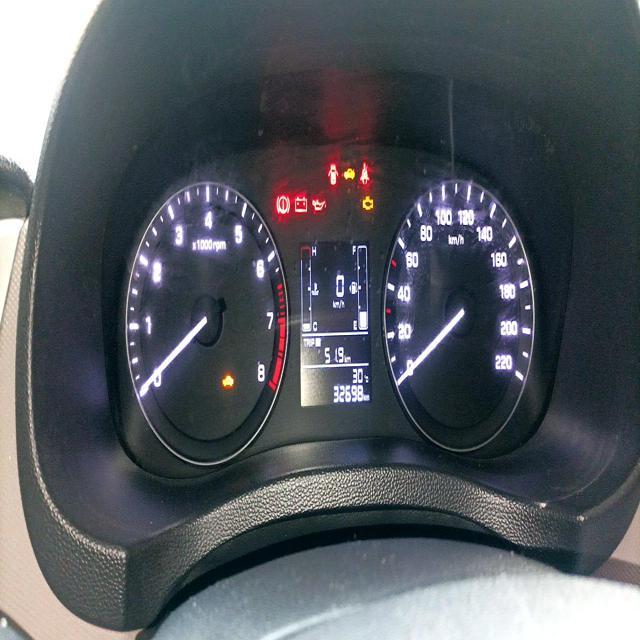odometer: (332, 383, 363, 404)
